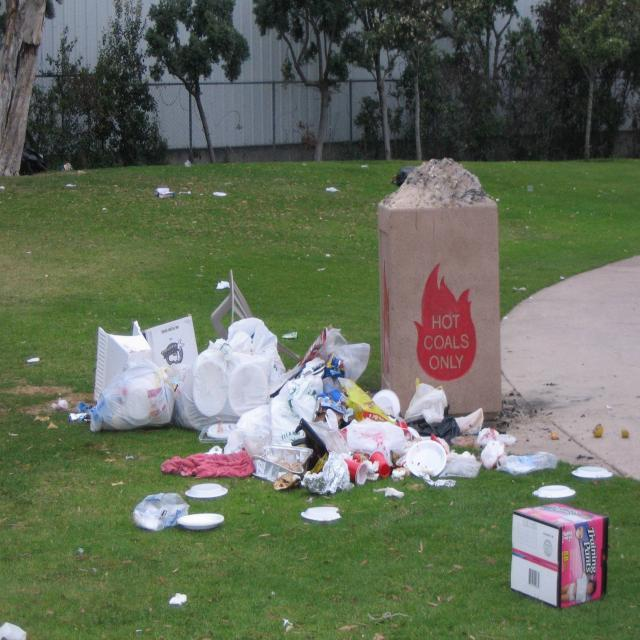plastic: (70, 271, 388, 536), (388, 372, 637, 508), (506, 505, 616, 616)
